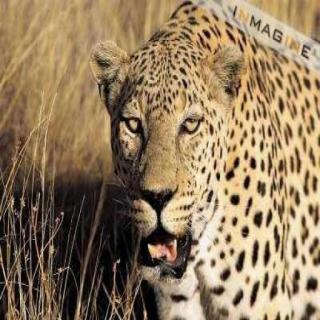Leopard: (87, 20, 320, 320)
